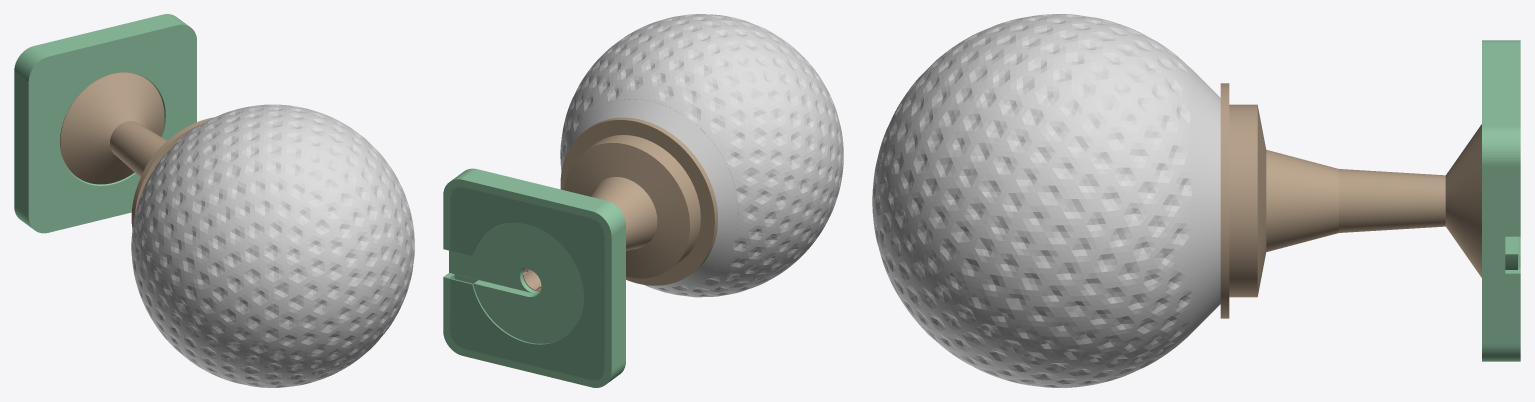
File: golf_tee_lamp_assembly.glb
The picture shows the model from 3 angles, left to right: view 1: azimuth 30°, elevation 25°; view 2: azimuth 150°, elevation 25°; view 3: azimuth 270°, elevation 25°; orthographic projection. The views are drawn at different scales.
Visible parts, largest first — view 1: Golf_Ball_Assembled, Golf_Grass_Base, Golf_Tee; view 2: Golf_Ball_Assembled, Golf_Grass_Base, Golf_Tee, Golf_Ballast_Cover; view 3: Golf_Ball_Assembled, Golf_Tee, Golf_Grass_Base.
Boxes of the visible parts, x1,y1,x2,y2 form: Golf_Ball_Assembled: (131,104,414,387); Golf_Grass_Base: (14,14,196,233); Golf_Tee: (60,72,213,229); Golf_Ball_Assembled: (560,14,843,297); Golf_Grass_Base: (443,168,625,387); Golf_Tee: (523,117,717,291); Golf_Ballast_Cover: (449,186,605,380); Golf_Ball_Assembled: (872,14,1220,387); Golf_Tee: (1220,83,1481,318); Golf_Grass_Base: (1482,40,1520,361).
Bounding box in the file's own units: 175 × 175 × 303.
